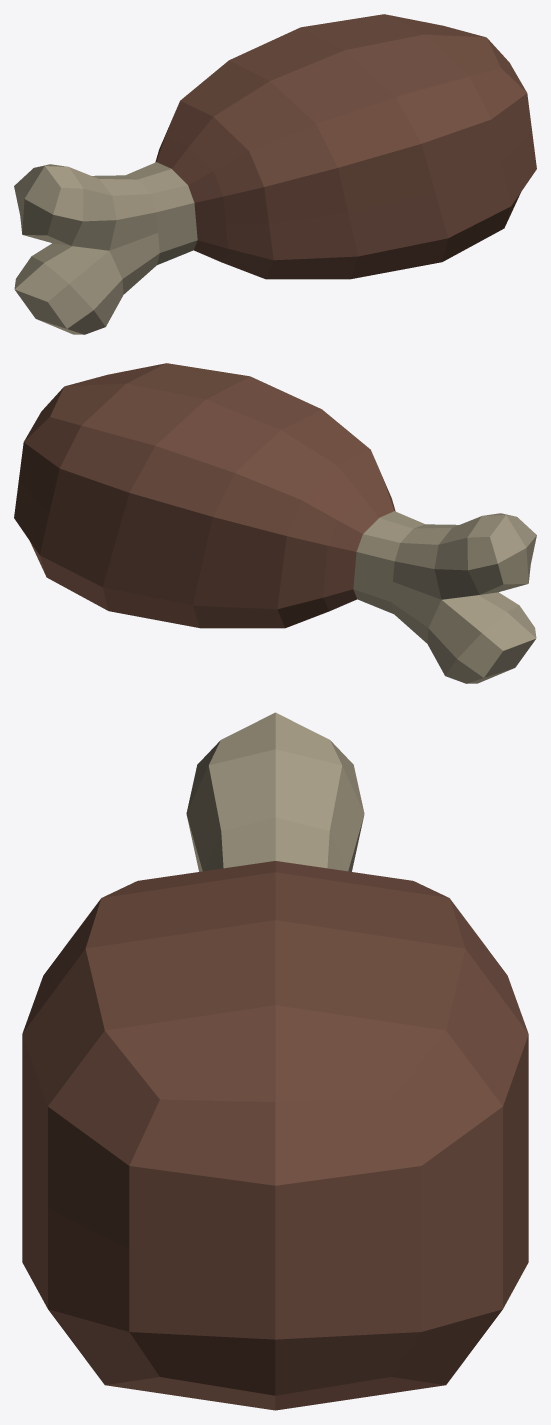
The model's file is ChickenLeg.gltf.
The picture shows the model from 3 angles, top to bottom: view 1: azimuth 30°, elevation 25°; view 2: azimuth 150°, elevation 25°; view 3: azimuth 270°, elevation 25°; orthographic projection. The views are drawn at different scales.
Visible parts, largest first — view 1: ChickenLeg; view 2: ChickenLeg; view 3: ChickenLeg.
Boxes of the visible parts, left/top/right/bottom form: ChickenLeg: left=14, top=14, right=536, bottom=334; ChickenLeg: left=14, top=363, right=536, bottom=683; ChickenLeg: left=22, top=712, right=528, bottom=1410.
Bounding box in the file's own units: 1.4 × 0.5815 × 0.6119.
